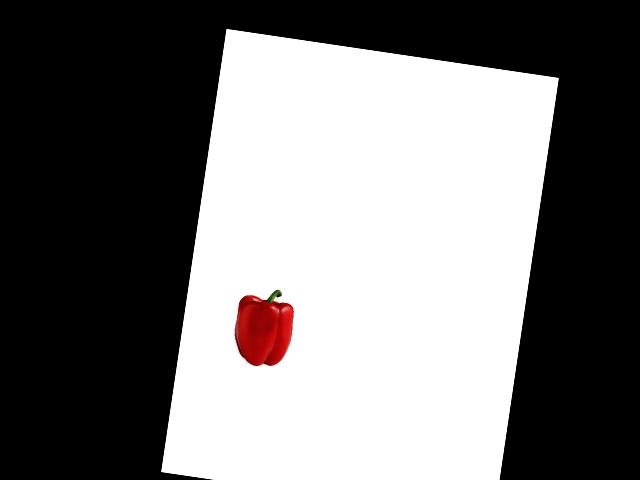bell_pepper: (226, 283, 301, 372)
